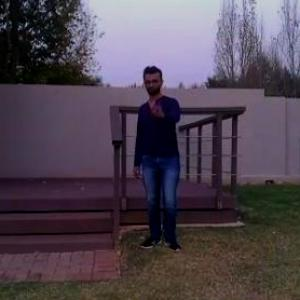takeoff-hand: (144, 89, 172, 121)
